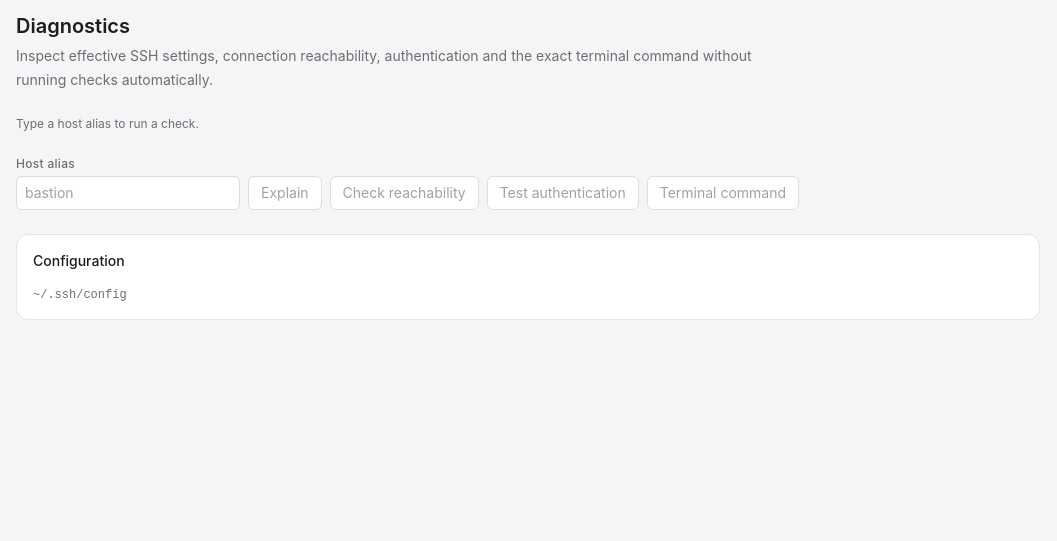
Test: DiagnosticsPanel › offers a copyable command instead of a launch for an unsafe alias
In the field labelled "Host alias": [128, 193] box [16,176,240,210], type "weird"
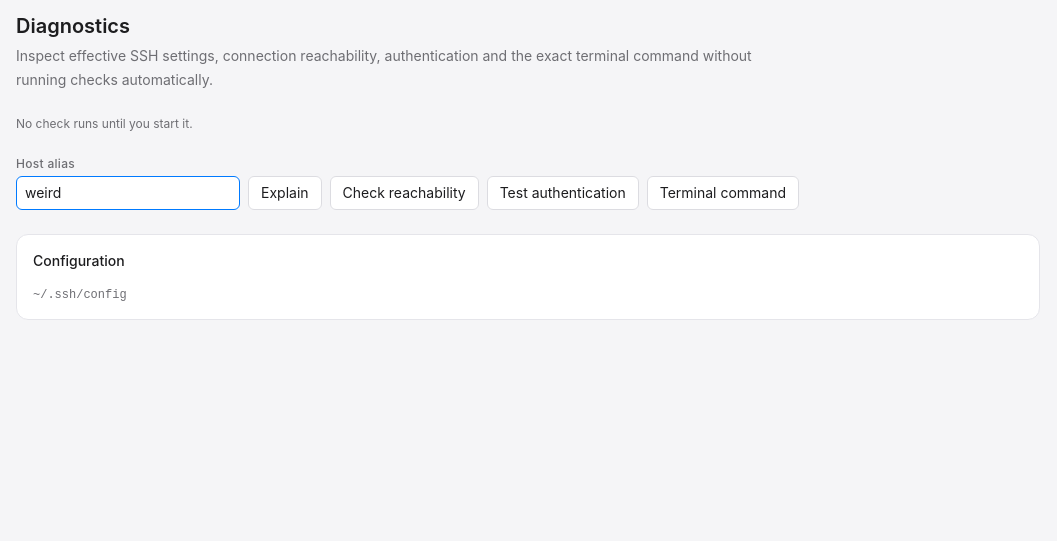
Click the button "Terminal command": [723, 193] box [647,176,799,210]
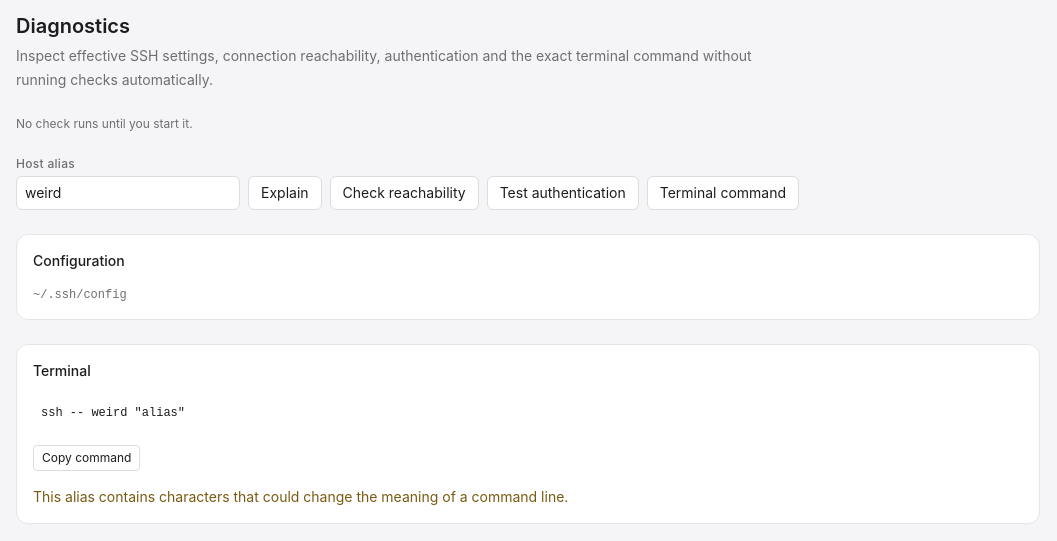
Result: the text "ssh -- weird \"alias\"" is shown at [33,397,1023,429]
Result: the text "could change the meaning" is shown at [33,488,568,505]
